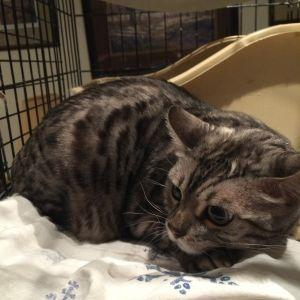bengal: (147, 98, 300, 259)
